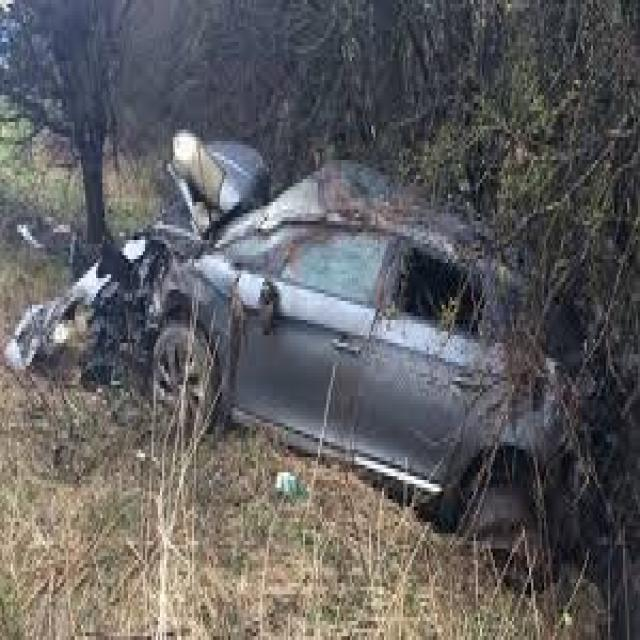moderate: (470, 429, 546, 599)
severe: (37, 148, 339, 412)
